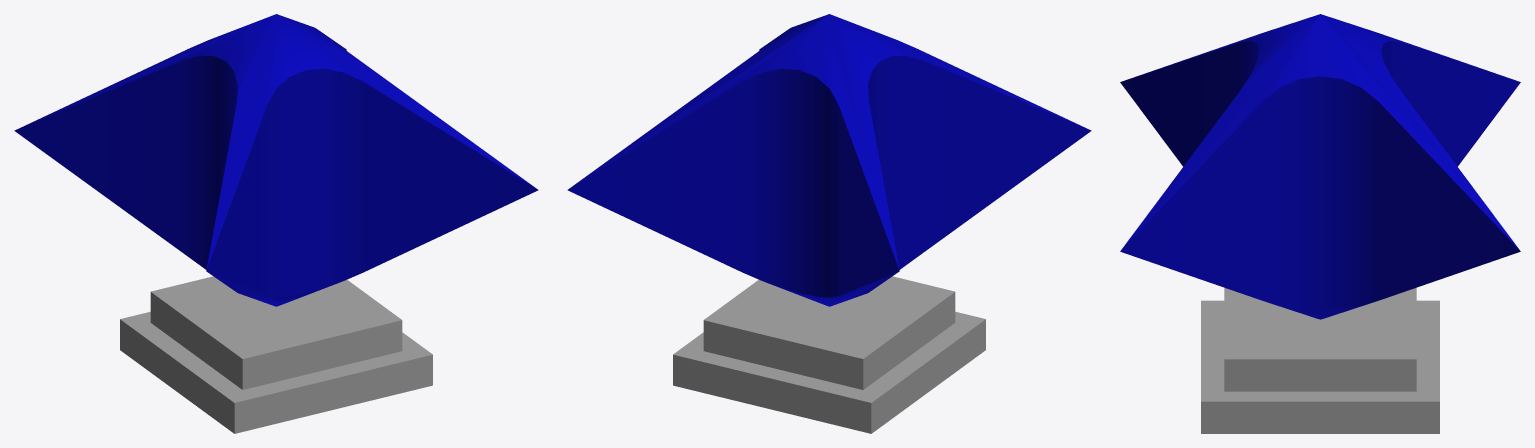
File: Art-02.fbx
3 views of the same model, side by side, from view 1: azimuth 30°, elevation 25°; view 2: azimuth 150°, elevation 25°; view 3: azimuth 270°, elevation 25° (orthographic). The views are drawn at different scales.
Parts seen in each view (by area): view 1: Art-02; view 2: Art-02; view 3: Art-02.
Boxes of the visible parts, <box> form: Art-02: <box>14,14,538,433</box>; Art-02: <box>567,14,1091,433</box>; Art-02: <box>1120,14,1520,433</box>.
Size of what is drawn, in the model's own units: 3.37 by 3.43 by 3.37.
